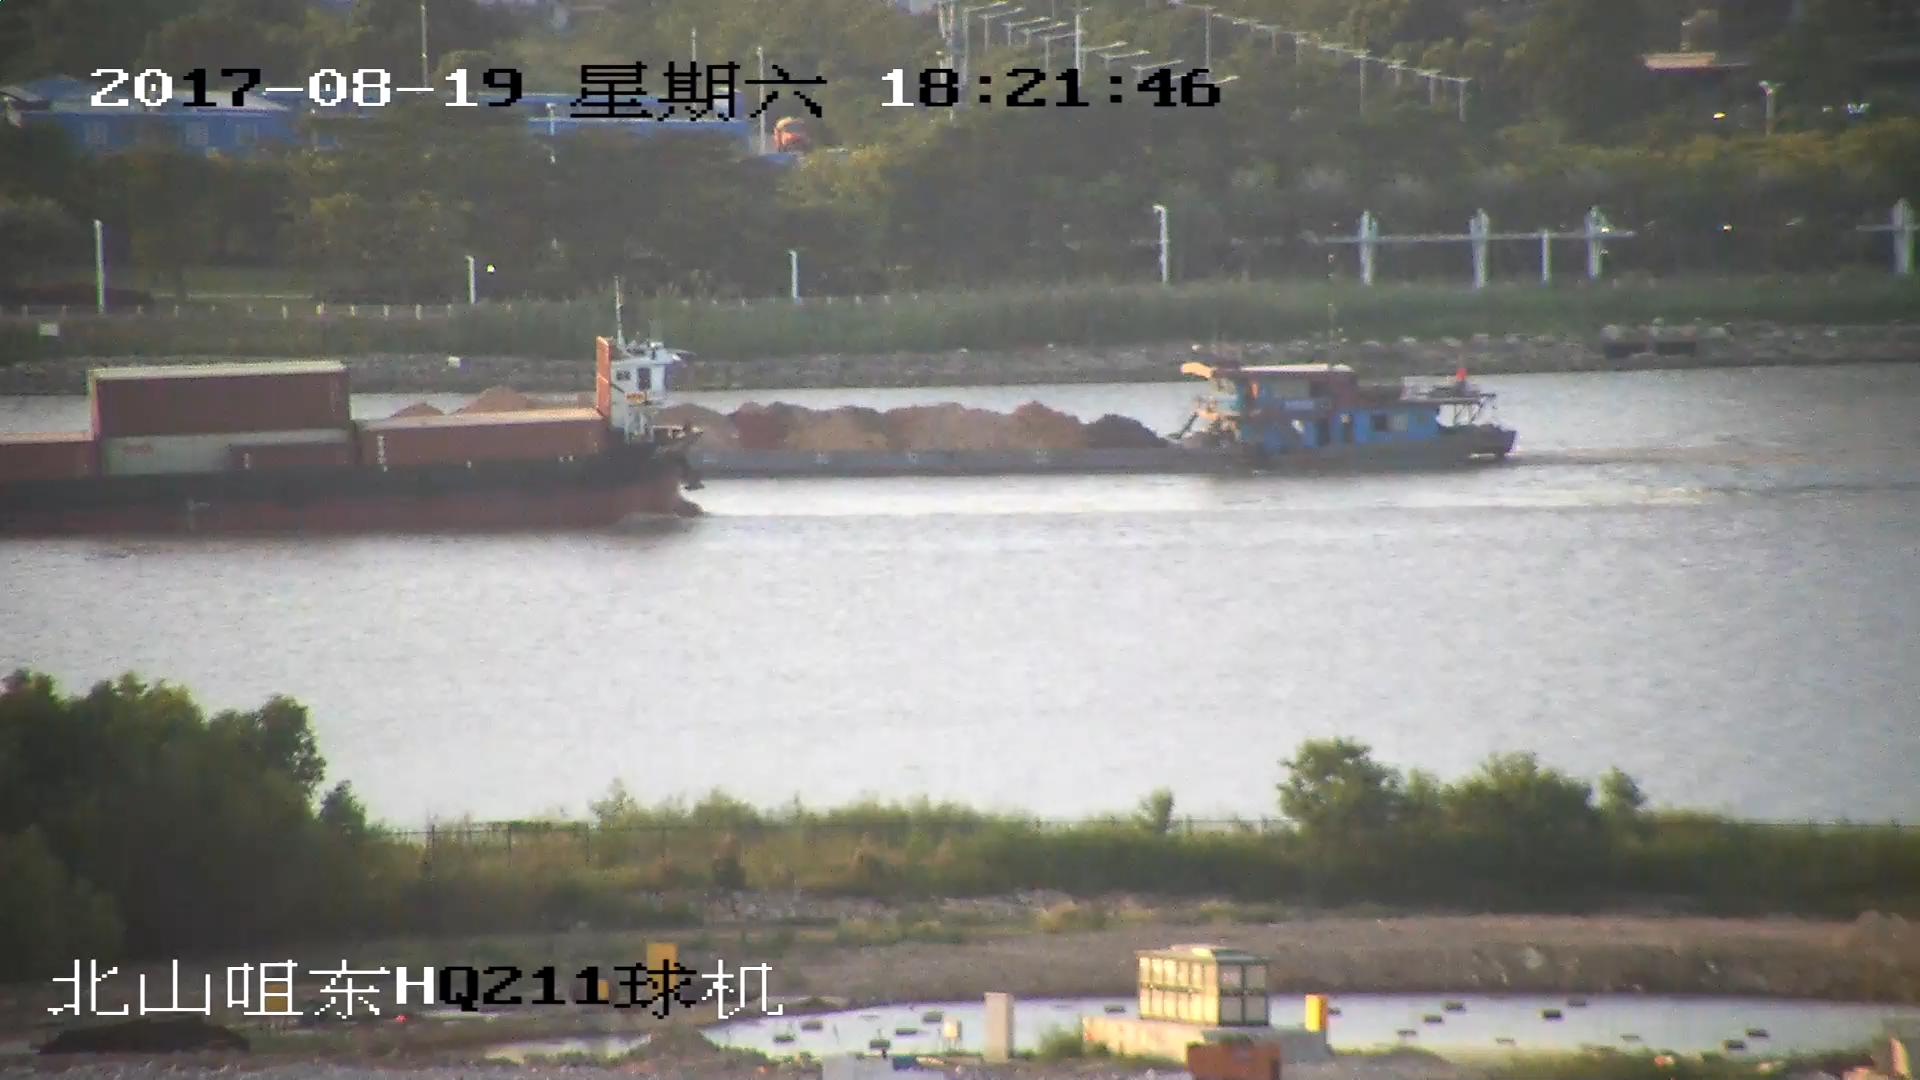container ship: (1, 343, 710, 539)
ore carrier: (395, 356, 1516, 484)
